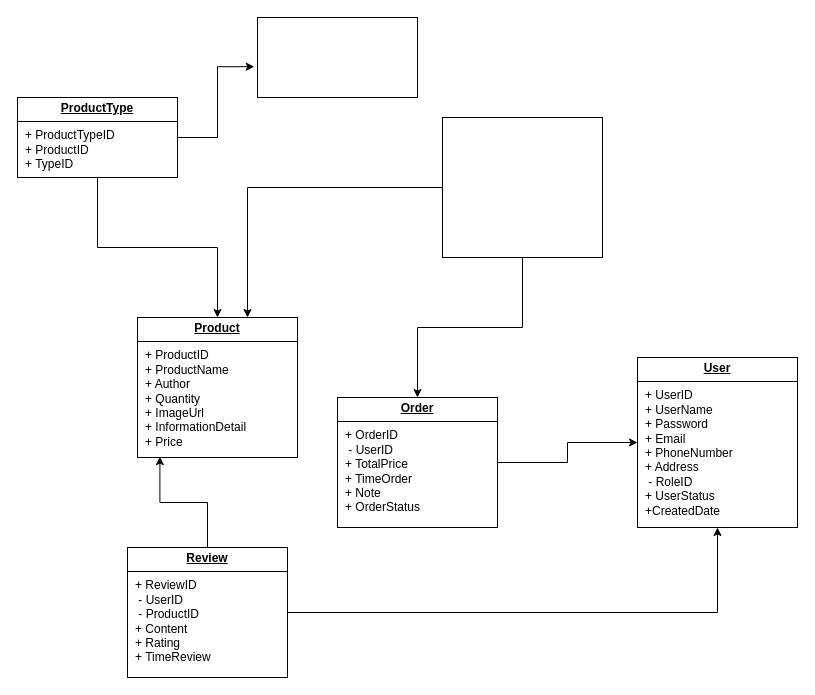
The diagram is 815 pixels wide and 695 high, and some of its shapes have lost their labels. The centre of each missing label's shape, as x and y in pixels:
OrderDetail + OrderDetailID + Quantity + Price - OrderID - ProductID: [522,187]
Type + TypeID + TypeName + Description: [337,57]
